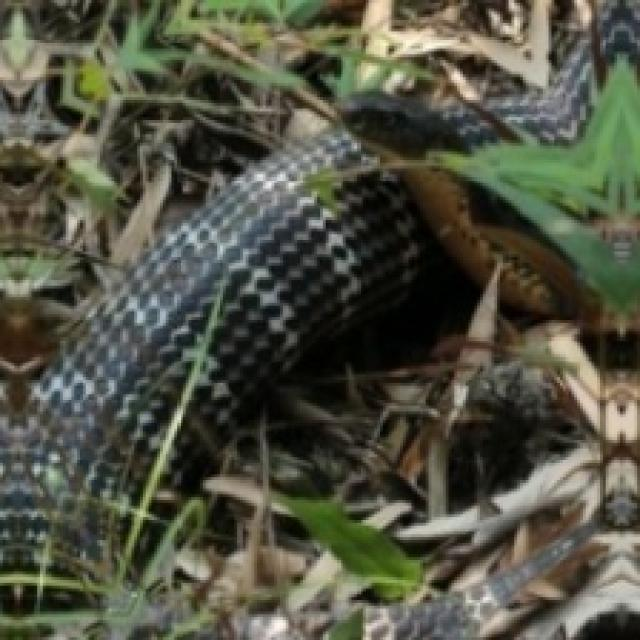king cobra: (0, 0, 637, 637), (420, 0, 557, 80)
